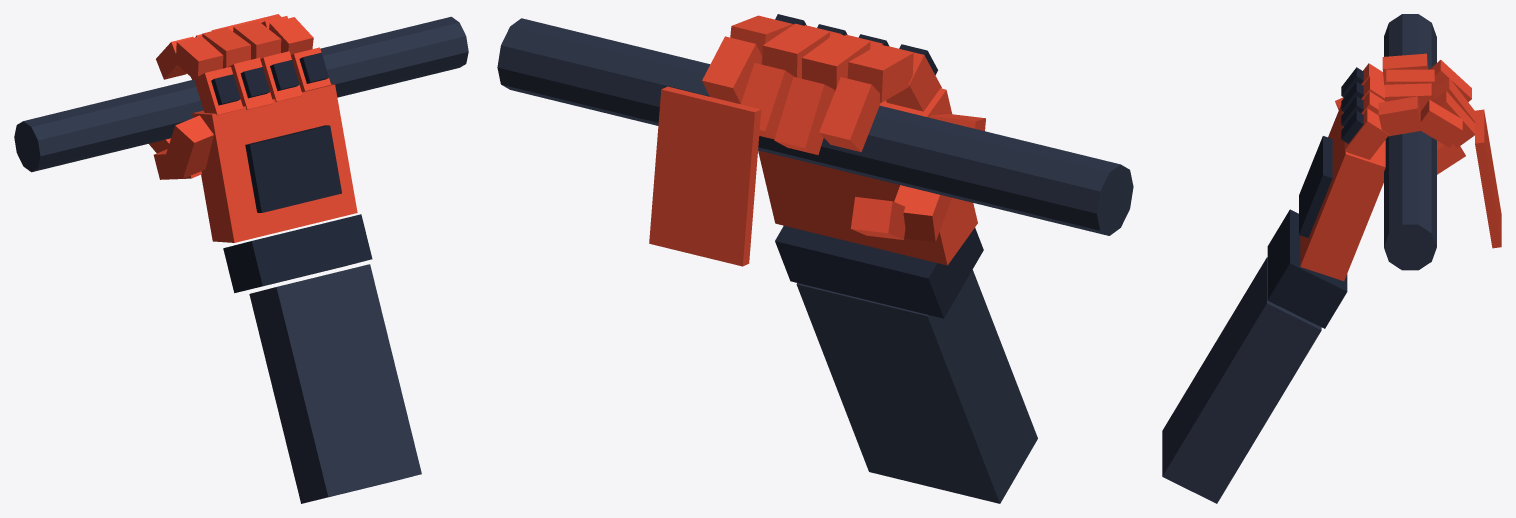
Rendered from hand.glb.
The picture shows the model from 3 angles, left to right: view 1: azimuth 30°, elevation 25°; view 2: azimuth 150°, elevation 25°; view 3: azimuth 270°, elevation 25°; orthographic projection. The views are drawn at different scales.
Visible parts, largest first — view 1: sleeve, rim, palm, cuff, palm_pad, thumb0, f0_1, f2_1, f1_1, f3_1, f0_0, f1_0 (+7 smaller); view 2: rim, sleeve, paddle, palm, cuff, f0_2, f1_2, f3_2, f0_1, f2_2, f1_1, thumb1 (+4 smaller); view 3: sleeve, rim, palm, cuff, palm_pad, paddle, f3_1, f3_2, f3_0, f2_1, f1_1, f2_2 (+5 smaller).
Part boxes in pixels (x1=…): sleeve: x1=249, y1=264, x2=421, y2=503; rim: x1=14, y1=16, x2=468, y2=172; palm: x1=192, y1=84, x2=357, y2=242; cuff: x1=223, y1=214, x2=372, y2=293; palm_pad: x1=245, y1=125, x2=341, y2=212; thumb0: x1=164, y1=115, x2=213, y2=178; f0_1: x1=175, y1=36, x2=223, y2=79; f2_1: x1=233, y1=20, x2=281, y2=59; f1_1: x1=202, y1=27, x2=250, y2=68; f3_1: x1=269, y1=17, x2=313, y2=54; f0_0: x1=194, y1=66, x2=243, y2=115; f1_0: x1=228, y1=57, x2=273, y2=109; rim: x1=497, y1=18, x2=1133, y2=235; sleeve: x1=796, y1=269, x2=1037, y2=503; paddle: x1=649, y1=86, x2=761, y2=266; palm: x1=758, y1=88, x2=977, y2=265; cuff: x1=775, y1=226, x2=983, y2=318; f0_2: x1=819, y1=77, x2=880, y2=152; f1_2: x1=774, y1=76, x2=834, y2=155; f3_2: x1=702, y1=36, x2=761, y2=104; f0_1: x1=847, y1=44, x2=913, y2=102; f2_2: x1=741, y1=63, x2=793, y2=139; f1_1: x1=802, y1=33, x2=870, y2=91; thumb1: x1=894, y1=185, x2=951, y2=241; sleeve: x1=1162, y1=257, x2=1321, y2=503; rim: x1=1384, y1=14, x2=1436, y2=270; palm: x1=1300, y1=105, x2=1385, y2=281; cuff: x1=1267, y1=209, x2=1347, y2=328; palm_pad: x1=1299, y1=136, x2=1332, y2=237; paddle: x1=1475, y1=109, x2=1501, y2=248; f3_1: x1=1378, y1=96, x2=1422, y2=136; f3_2: x1=1420, y1=100, x2=1462, y2=147; f3_0: x1=1344, y1=108, x2=1388, y2=159; f2_1: x1=1385, y1=83, x2=1432, y2=111; f1_1: x1=1386, y1=69, x2=1434, y2=100; f2_2: x1=1432, y1=91, x2=1474, y2=147.
Bounding box in the file's own units: 0.32 × 0.2797 × 0.2177.
